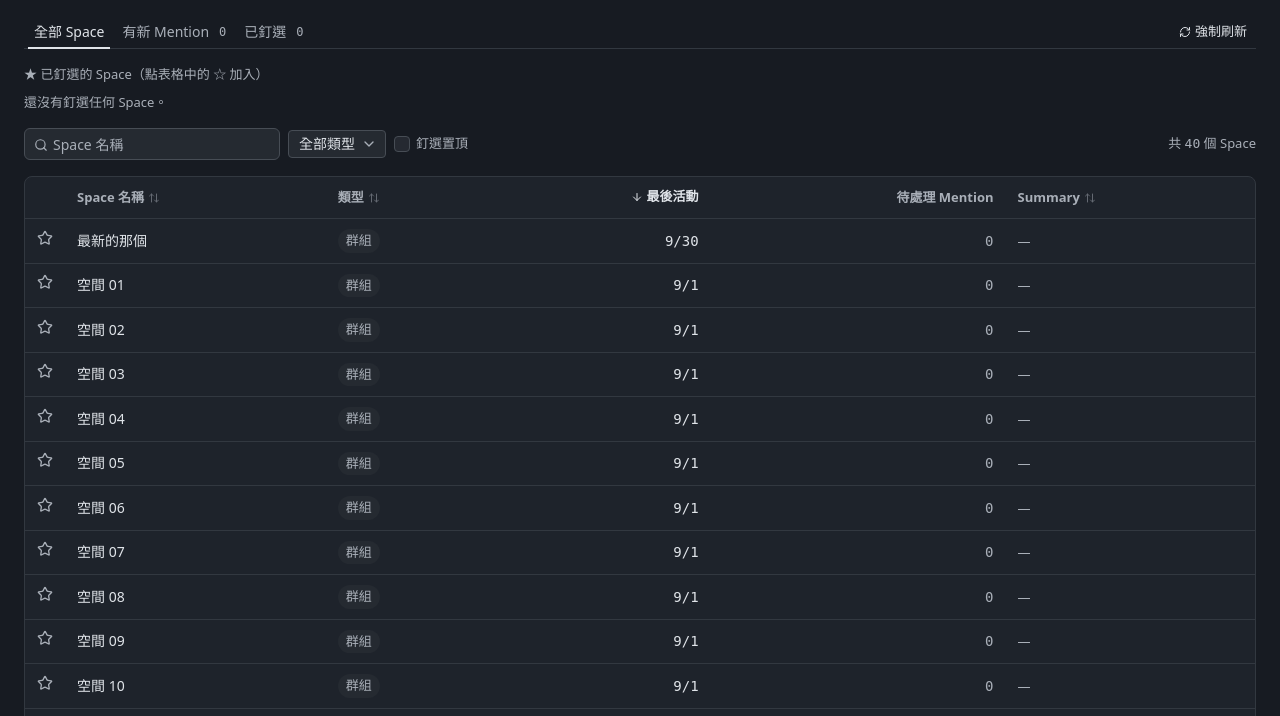
Test: SpacesTable：分頁、排序、篩選作用於全部 Space › 名稱欄可以雙向排序：再點一次變降冪，表頭與偏好都跟著變
Click the button "Space 名稱" at (118, 198), box top-left (77, 188), bottom-right (160, 207)
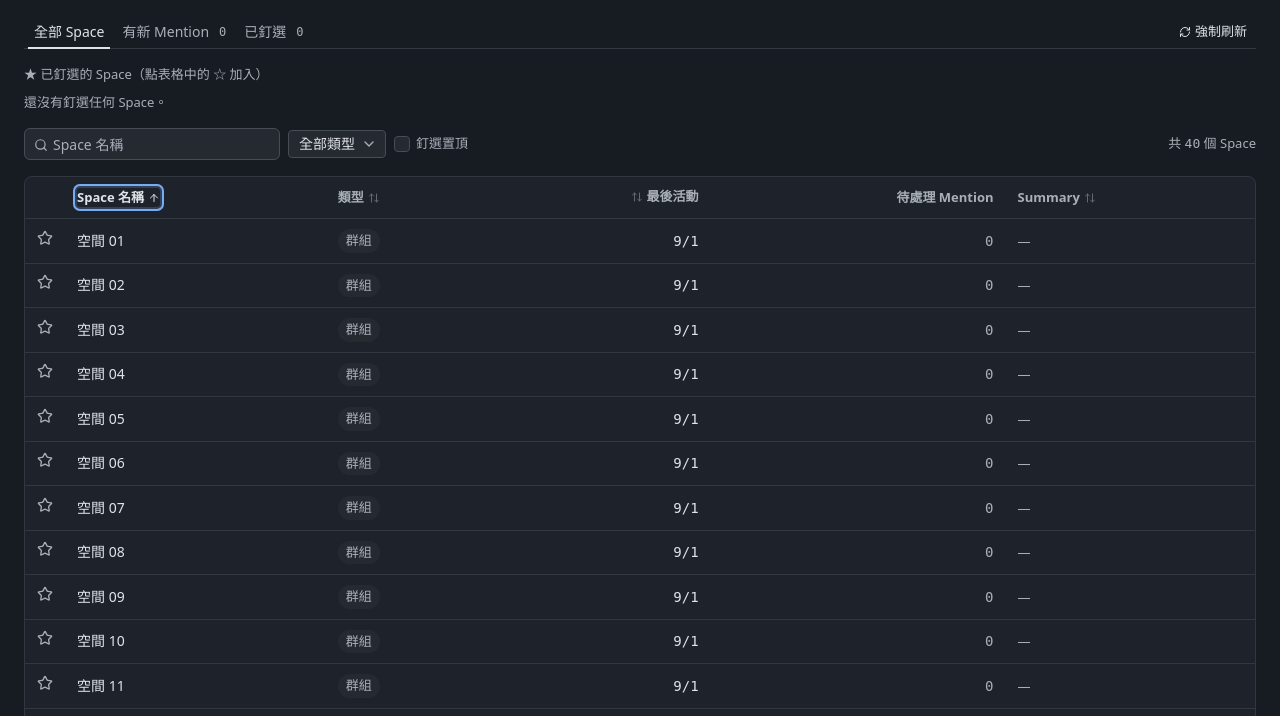
Click the button "Space 名稱" at (118, 198), box top-left (77, 188), bottom-right (160, 207)
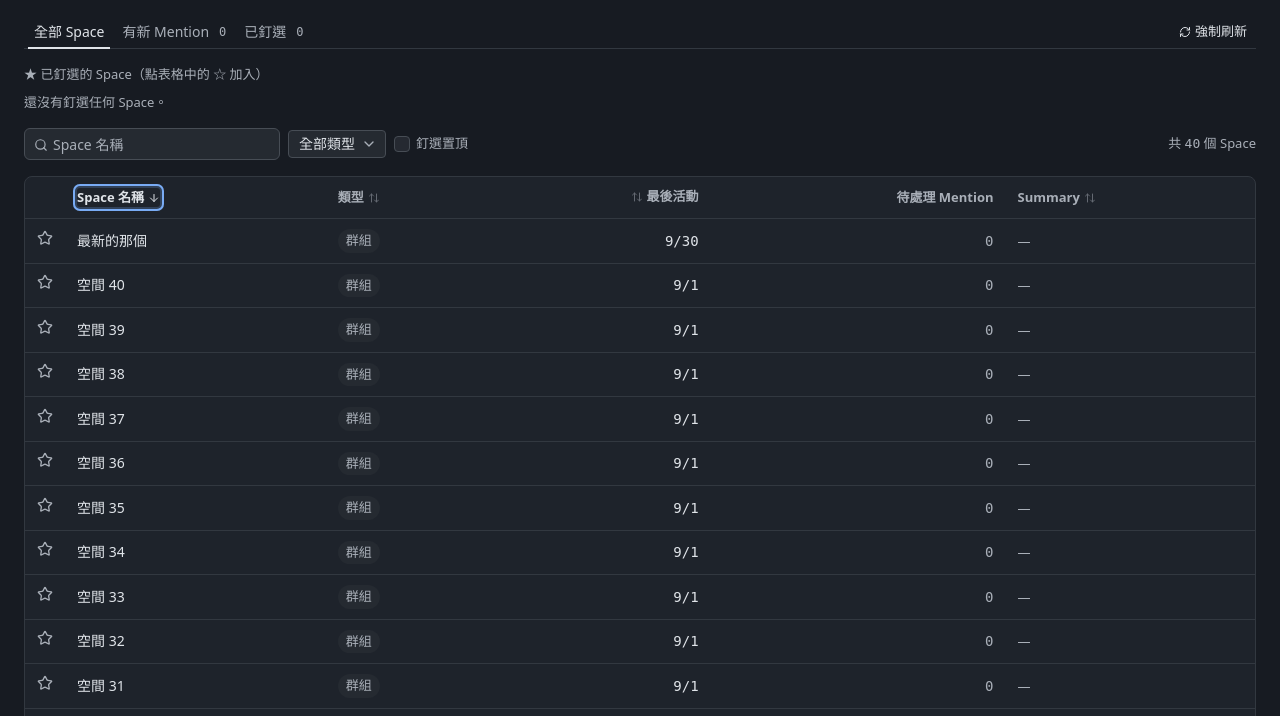
Expected: the column heading "Space 名稱" has attribute aria-sort="descending", top-left (65, 177), bottom-right (326, 219)
Click the button "Space 名稱" at (118, 198), box top-left (77, 188), bottom-right (160, 207)
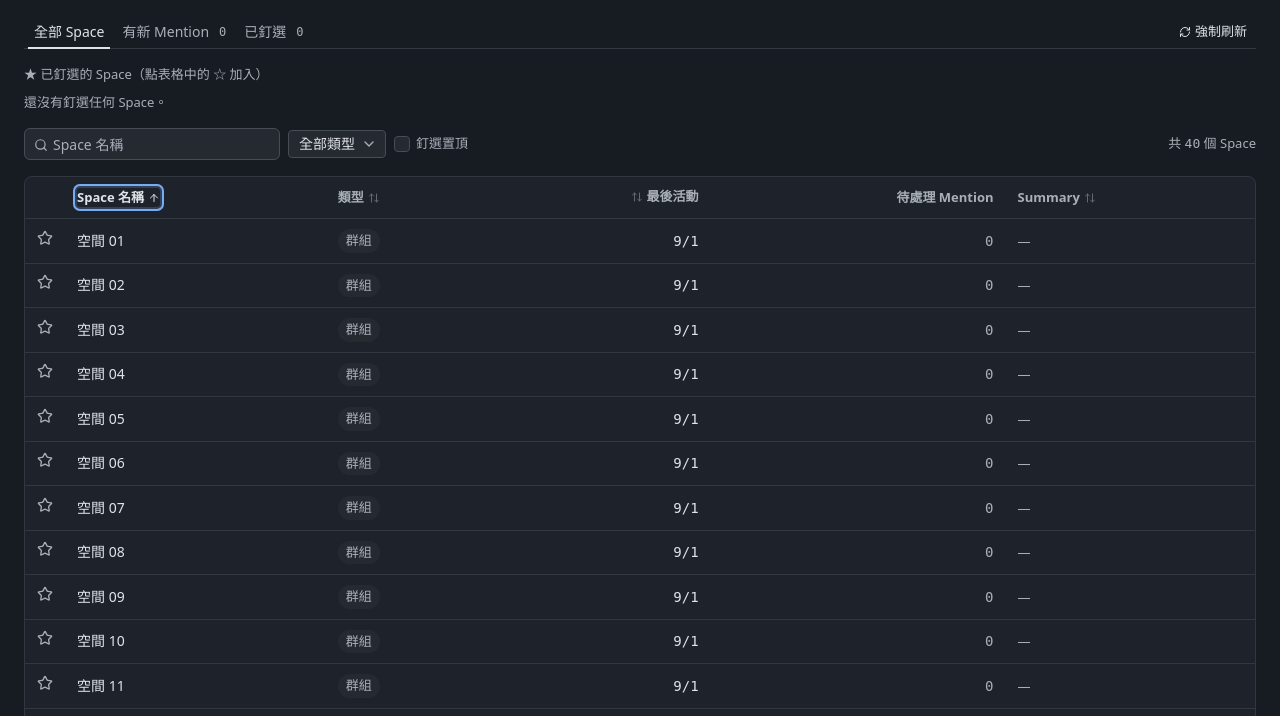
Expected: the text "空間 01" is shown, top-left (77, 230), bottom-right (125, 252)
